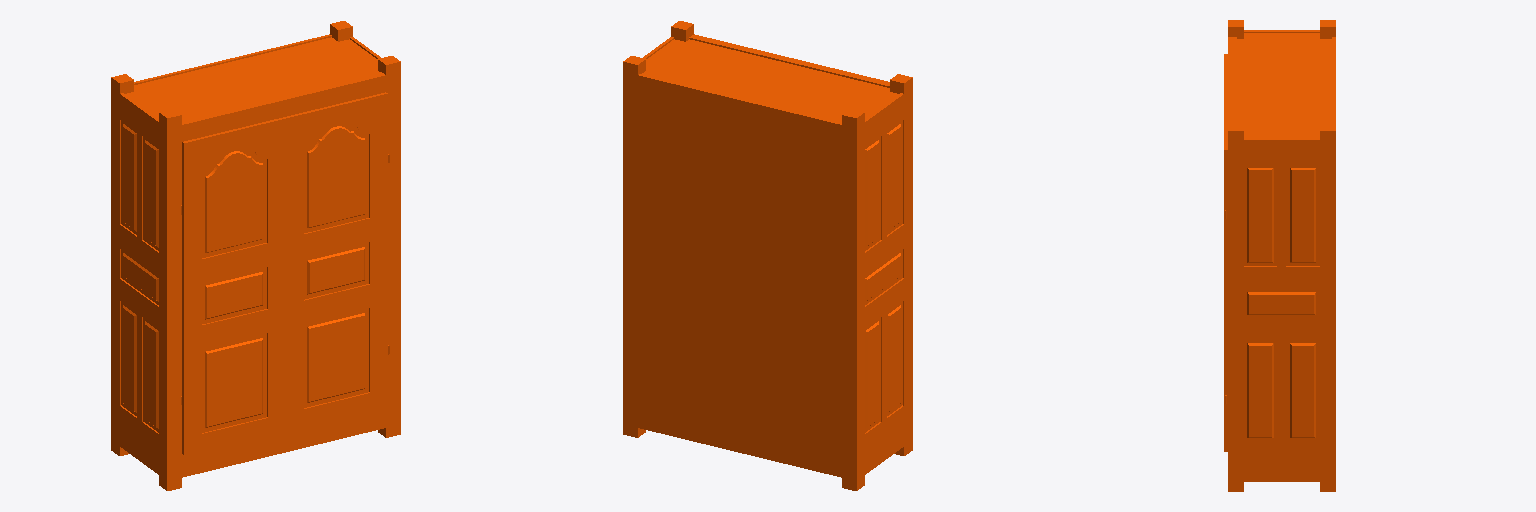
The robot description file, URDF, robot "Armoire_9b2759851023fad7dedad3eee47fd556":
<?xml version="1.0" ?>
<robot name="Armoire_9b2759851023fad7dedad3eee47fd556">
   <material name="obj_color">
      <color rgba="1.0 0.423529411765 0.0392156862745 1.0"/>
   </material>
   <link name="top">
      <inertial>
         <origin rpy="3.725829508090477e-05 7.915771843491197e-05 0.0001048140938880971" xyz="-0.0004140066197159384 0.001951230575598507 -0.001407554088246967"/>
         <mass value="0.1174692821634826"/>
         <inertia ixx="7.915771843491536e-05" ixy="-9.330914099932574e-12" ixz="3.89895022066163e-13" iyy="0.0001048140906788716" iyz="1.472418245067369e-08" izz="3.725829829012683e-05"/>
      </inertial>
      <visual>
         <origin rpy="0 0 0" xyz="0 0 0"/>
         <geometry>
            <mesh filename="top_watertight_tiny.stl" scale="1 1 1"/>
         </geometry>
         <material name="obj_color"/>
      </visual>
      <collision>
         <origin rpy="0 0 0" xyz="0 0 0"/>
         <geometry>
            <mesh filename="top_watertight_tiny.obj" scale="1 1 1"/>
         </geometry>
      </collision>
   </link>
   <link name="bottom">
      <inertial>
         <origin rpy="1.633333333199431e-08 1.633333333199431e-08 1.633333333362855e-08" xyz="0.3464080000000008 0.3464080000000008 0.3464080000000008"/>
         <mass value="0.0009800000000000017"/>
         <inertia ixx="1.633333333253906e-08" ixy="5.447480642029219e-19" ixz="5.447480642029219e-19" iyy="1.633333333253906e-08" iyz="5.447480642029219e-19" izz="1.633333333253906e-08"/>
      </inertial>
      <visual>
         <origin rpy="0 0 0" xyz="0 0 0"/>
         <geometry>
            <mesh filename="bottom_watertight_tiny.stl" scale="1 1 1"/>
         </geometry>
         <material name="obj_color"/>
      </visual>
   </link>
   <link name="world"/>
   <joint name="world_to_base" type="fixed">
      <origin xyz="0 0 0"/>
      <axis xyz="0 0 0"/>
      <parent link="world"/>
      <child link="bottom"/>
   </joint>
   <joint name="rotation" type="revolute">
      <origin xyz="0 0 0"/>
      <axis xyz="0 0 -1"/>
      <parent link="bottom"/>
      <child link="top"/>
      <dynamics damping="1.0" friction="1.0"/>
      <limit effort="0.1" velocity="0.1" lower="0" upper="0.001"/>
   </joint>
</robot>

--- Render facts (derived) ---
The picture shows the robot from 3 angles, left to right: view 1: azimuth 30°, elevation 25°; view 2: azimuth 150°, elevation 25°; view 3: azimuth 270°, elevation 25°; orthographic projection.
Model Armoire_9b2759851023fad7dedad3eee47fd556 with 3 links and 2 joints (1 revolute, 1 fixed), rooted at world, posed every joint at zero.
Links seen in each view (by area): view 1: top; view 2: top; view 3: top.
Link boxes in pixels (x1=…): top: x1=111, y1=21, x2=400, y2=490; top: x1=623, y1=21, x2=912, y2=490; top: x1=1224, y1=20, x2=1335, y2=491.
Bounding box of the posed robot: 0.0568 × 0.0244 × 0.0867 m (x, y, z).
Meshes: 2 distinct files referenced, 1 mesh visuals loaded (1 binary STL); not drawn: 1 (reference not matched to a file when rendering).
